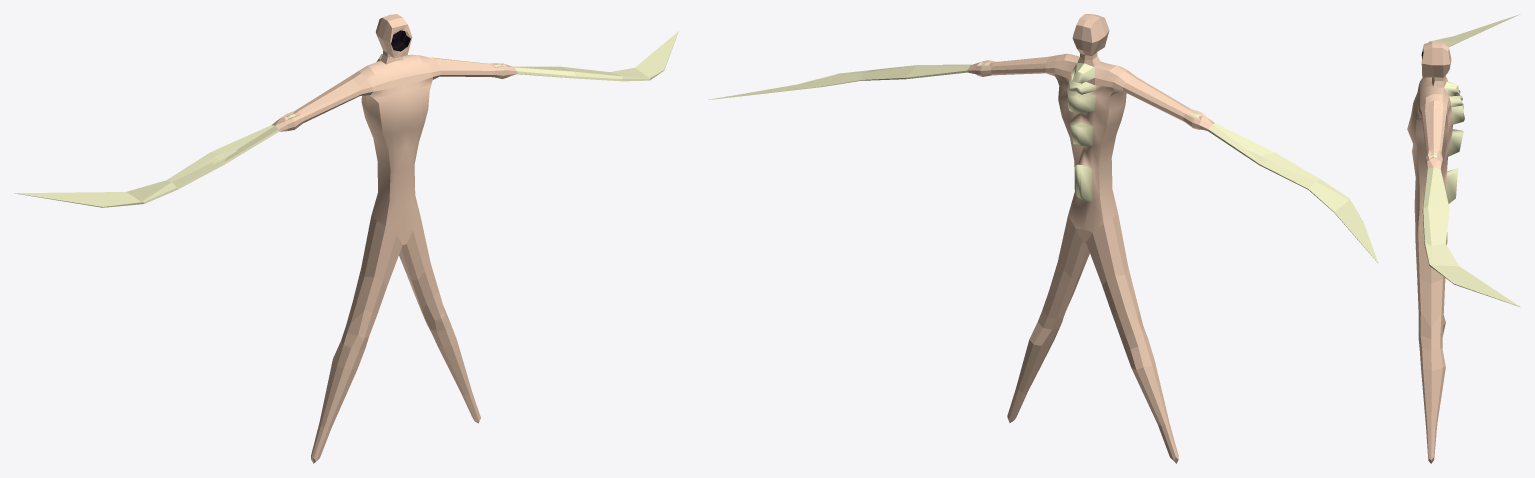
Rendered from Boss 1.fbx.
The picture shows the model from 3 angles, left to right: view 1: azimuth 30°, elevation 25°; view 2: azimuth 150°, elevation 25°; view 3: azimuth 270°, elevation 25°; orthographic projection. The views are drawn at different scales.
Parts seen in each view (by area): view 1: Box001; view 2: Box001; view 3: Box001.
Part boxes in pixels (box(x1,y1,x2,y2)): Box001: box(15, 14, 678, 463); Box001: box(708, 14, 1378, 463); Box001: box(1407, 14, 1520, 463).
Size of the model in its own units: 156 by 95.43 by 25.61.
